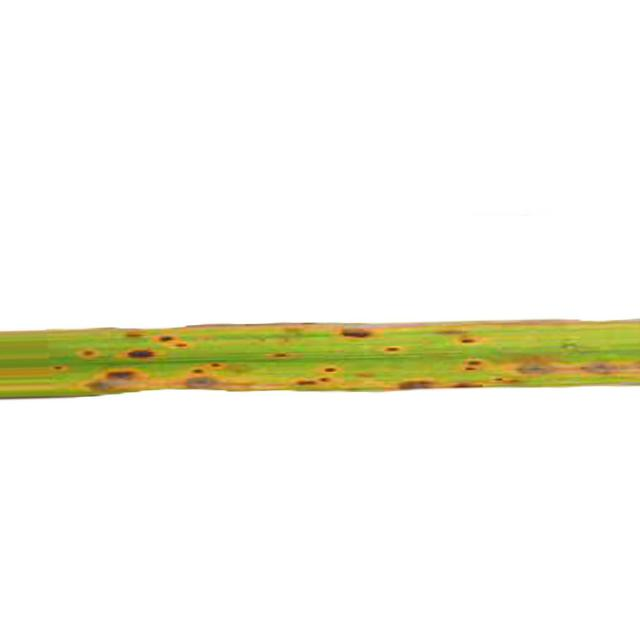Brown_Spot: (89, 370, 142, 394), (581, 361, 620, 384), (435, 326, 482, 344), (186, 376, 225, 389), (518, 362, 544, 378), (399, 380, 434, 390), (342, 329, 372, 338), (462, 359, 484, 371), (464, 359, 484, 371), (128, 350, 154, 359), (451, 381, 482, 388), (79, 349, 99, 359), (272, 351, 291, 361), (124, 330, 146, 338), (154, 334, 175, 342), (322, 366, 342, 374), (188, 368, 205, 377), (384, 345, 404, 352), (210, 362, 226, 370), (296, 379, 316, 385), (174, 341, 188, 349), (319, 378, 331, 382)
